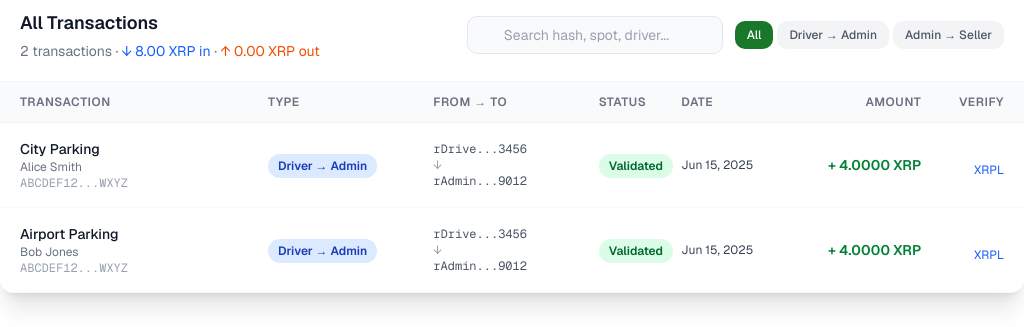
Test: TransactionTable Component › Search Functionality › empty search shows all
Check: the text "Alice Smith" is shown, box [20,159,82,175]
Type "Alice" into the field with placeholder "Search hash, spot, driver..." at (595, 35), box [467,16,723,54]
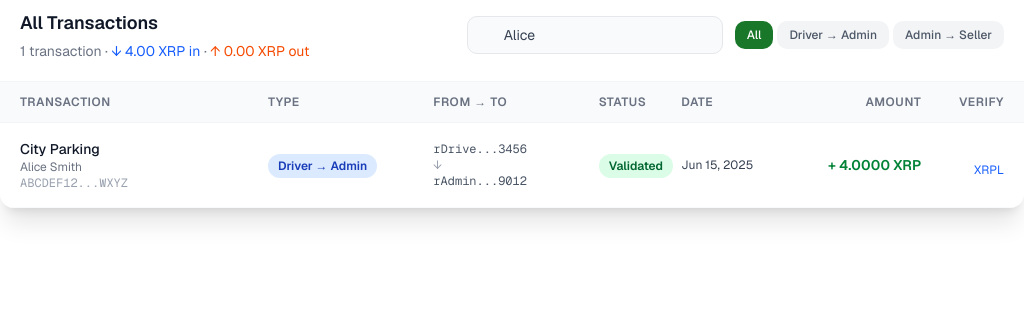
Check: the text "Bob Jones" is gone
Clear the field with placeholder "Search hash, spot, driver..." at (595, 35), box [467,16,723,54]
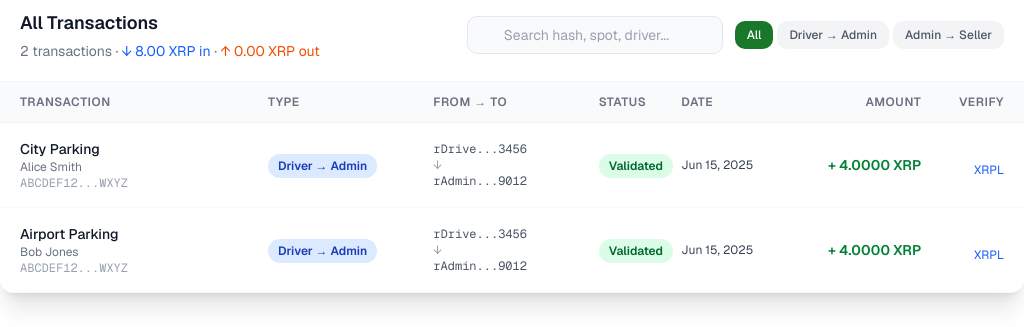
Check: the text "Bob Jones" is shown, box [20,244,79,260]
